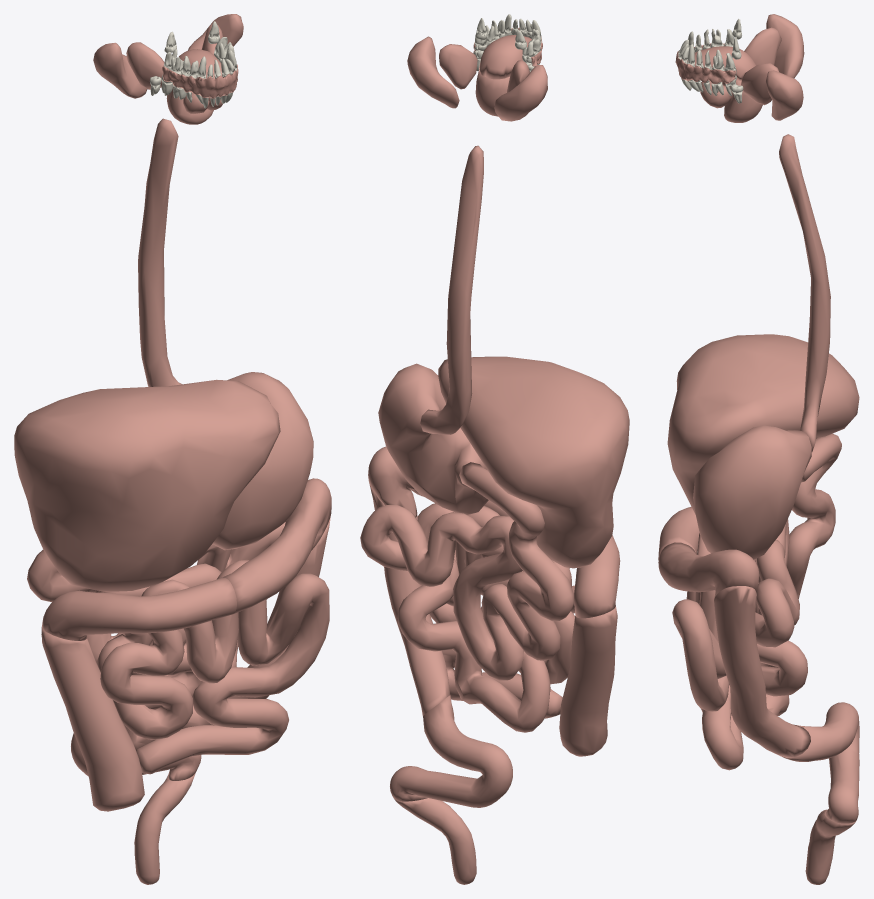
The model's file is pediatric_adolescent_female.digestive.LOD1.glb.
The picture shows the model from 3 angles, left to right: view 1: azimuth 30°, elevation 25°; view 2: azimuth 150°, elevation 25°; view 3: azimuth 270°, elevation 25°; orthographic projection. The views are drawn at different scales.
Visible parts, largest first — view 1: PEDIATRIC.ADOLESCENT.FEMALE.DIGESTIVE.LIVER, PEDIATRIC.ADOLESCENT.FEMALE.DIGESTIVE.SMALL_INTESTINE_WALL, PEDIATRIC.ADOLESCENT.FEMALE.DIGESTIVE.TRANSVERSE_COLON_WALL. (×2), PEDIATRIC.ADOLESCENT.FEMALE.DIGESTIVE.ASCENDING_COLON_WALL, PEDIATRIC.ADOLESCENT.FEMALE.DIGESTIVE.STOMACH_WALL, PEDIATRIC.ADOLESCENT.FEMALE.DIGESTIVE.OESOPHAGUS_WALL, PEDIATRIC.ADOLESCENT.FEMALE.DIGESTIVE.SALIVARY_GLANDS.R, PEDIATRIC.ADOLESCENT.FEMALE.DIGESTIVE.RECTUM_WALL, PEDIATRIC.ADOLESCENT.FEMALE.DIGESTIVE.PERMANENT_CEMENTUM, PEDIATRIC.ADOLESCENT.FEMALE.DIGESTIVE.ORAL_MUCOSA_LIP_AND_CH, PEDIATRIC.ADOLESCENT.FEMALE.DIGESTIVE.SALIVARY_GLANDS.L, PEDIATRIC.ADOLESCENT.FEMALE.DIGESTIVE.DESCENDING_COLON_WALL (+2 smaller); view 2: PEDIATRIC.ADOLESCENT.FEMALE.DIGESTIVE.SMALL_INTESTINE_WALL, PEDIATRIC.ADOLESCENT.FEMALE.DIGESTIVE.LIVER, PEDIATRIC.ADOLESCENT.FEMALE.DIGESTIVE.STOMACH_WALL, PEDIATRIC.ADOLESCENT.FEMALE.DIGESTIVE.OESOPHAGUS_WALL, PEDIATRIC.ADOLESCENT.FEMALE.DIGESTIVE.SIGMOID_COLON_WALL, PEDIATRIC.ADOLESCENT.FEMALE.DIGESTIVE.ASCENDING_COLON_WALL, PEDIATRIC.ADOLESCENT.FEMALE.DIGESTIVE.TRANSVERSE_COLON_WALL. (×2), PEDIATRIC.ADOLESCENT.FEMALE.DIGESTIVE.DESCENDING_COLON_WALL, PEDIATRIC.ADOLESCENT.FEMALE.DIGESTIVE.SALIVARY_GLANDS.L, PEDIATRIC.ADOLESCENT.FEMALE.DIGESTIVE.RECTUM_WALL, PEDIATRIC.ADOLESCENT.FEMALE.DIGESTIVE.SALIVARY_GLANDS.R, PEDIATRIC.ADOLESCENT.FEMALE.DIGESTIVE.ORAL_MUCOSA_MOUTH_FLOO (+2 smaller); view 3: PEDIATRIC.ADOLESCENT.FEMALE.DIGESTIVE.SMALL_INTESTINE_WALL, PEDIATRIC.ADOLESCENT.FEMALE.DIGESTIVE.LIVER, PEDIATRIC.ADOLESCENT.FEMALE.DIGESTIVE.STOMACH_WALL, PEDIATRIC.ADOLESCENT.FEMALE.DIGESTIVE.DESCENDING_COLON_WALL, PEDIATRIC.ADOLESCENT.FEMALE.DIGESTIVE.OESOPHAGUS_WALL, PEDIATRIC.ADOLESCENT.FEMALE.DIGESTIVE.TRANSVERSE_COLON_WALL. (×2), PEDIATRIC.ADOLESCENT.FEMALE.DIGESTIVE.SIGMOID_COLON_WALL, PEDIATRIC.ADOLESCENT.FEMALE.DIGESTIVE.SALIVARY_GLANDS.L, PEDIATRIC.ADOLESCENT.FEMALE.DIGESTIVE.SALIVARY_GLANDS.R, PEDIATRIC.ADOLESCENT.FEMALE.DIGESTIVE.PERMANENT_CEMENTUM, PEDIATRIC.ADOLESCENT.FEMALE.DIGESTIVE.RECTUM_WALL, PEDIATRIC.ADOLESCENT.FEMALE.DIGESTIVE.ORAL_MUCOSA_LIP_AND_CH (+2 smaller).
Boxes of the visible parts, <box> form: PEDIATRIC.ADOLESCENT.FEMALE.DIGESTIVE.LIVER: <box>14,379,280,591</box>; PEDIATRIC.ADOLESCENT.FEMALE.DIGESTIVE.SMALL_INTESTINE_WALL: <box>27,522,329,774</box>; PEDIATRIC.ADOLESCENT.FEMALE.DIGESTIVE.TRANSVERSE_COLON_WALL. (×2): <box>42,478,331,640</box>; PEDIATRIC.ADOLESCENT.FEMALE.DIGESTIVE.ASCENDING_COLON_WALL: <box>41,627,144,811</box>; PEDIATRIC.ADOLESCENT.FEMALE.DIGESTIVE.STOMACH_WALL: <box>212,372,313,550</box>; PEDIATRIC.ADOLESCENT.FEMALE.DIGESTIVE.OESOPHAGUS_WALL: <box>138,118,181,386</box>; PEDIATRIC.ADOLESCENT.FEMALE.DIGESTIVE.SALIVARY_GLANDS.R: <box>93,42,209,113</box>; PEDIATRIC.ADOLESCENT.FEMALE.DIGESTIVE.RECTUM_WALL: <box>134,773,195,884</box>; PEDIATRIC.ADOLESCENT.FEMALE.DIGESTIVE.PERMANENT_CEMENTUM: <box>150,21,237,108</box>; PEDIATRIC.ADOLESCENT.FEMALE.DIGESTIVE.ORAL_MUCOSA_LIP_AND_CH: <box>162,64,238,98</box>; PEDIATRIC.ADOLESCENT.FEMALE.DIGESTIVE.SALIVARY_GLANDS.L: <box>188,14,243,110</box>; PEDIATRIC.ADOLESCENT.FEMALE.DIGESTIVE.DESCENDING_COLON_WALL: <box>227,515,330,698</box>; PEDIATRIC.ADOLESCENT.FEMALE.DIGESTIVE.SMALL_INTESTINE_WALL: <box>360,462,574,732</box>; PEDIATRIC.ADOLESCENT.FEMALE.DIGESTIVE.LIVER: <box>438,356,629,568</box>; PEDIATRIC.ADOLESCENT.FEMALE.DIGESTIVE.STOMACH_WALL: <box>378,363,488,514</box>; PEDIATRIC.ADOLESCENT.FEMALE.DIGESTIVE.OESOPHAGUS_WALL: <box>420,145,483,434</box>; PEDIATRIC.ADOLESCENT.FEMALE.DIGESTIVE.SIGMOID_COLON_WALL: <box>390,695,512,807</box>; PEDIATRIC.ADOLESCENT.FEMALE.DIGESTIVE.ASCENDING_COLON_WALL: <box>559,606,617,756</box>; PEDIATRIC.ADOLESCENT.FEMALE.DIGESTIVE.TRANSVERSE_COLON_WALL. (×2): <box>368,446,620,618</box>; PEDIATRIC.ADOLESCENT.FEMALE.DIGESTIVE.DESCENDING_COLON_WALL: <box>369,482,450,715</box>; PEDIATRIC.ADOLESCENT.FEMALE.DIGESTIVE.SALIVARY_GLANDS.L: <box>407,36,477,108</box>; PEDIATRIC.ADOLESCENT.FEMALE.DIGESTIVE.RECTUM_WALL: <box>394,798,476,884</box>; PEDIATRIC.ADOLESCENT.FEMALE.DIGESTIVE.SALIVARY_GLANDS.R: <box>494,60,547,121</box>; PEDIATRIC.ADOLESCENT.FEMALE.DIGESTIVE.ORAL_MUCOSA_MOUTH_FLOO: <box>479,35,531,79</box>; PEDIATRIC.ADOLESCENT.FEMALE.DIGESTIVE.SMALL_INTESTINE_WALL: <box>672,433,841,770</box>; PEDIATRIC.ADOLESCENT.FEMALE.DIGESTIVE.LIVER: <box>667,334,859,514</box>; PEDIATRIC.ADOLESCENT.FEMALE.DIGESTIVE.STOMACH_WALL: <box>693,425,811,559</box>; PEDIATRIC.ADOLESCENT.FEMALE.DIGESTIVE.DESCENDING_COLON_WALL: <box>714,586,810,758</box>; PEDIATRIC.ADOLESCENT.FEMALE.DIGESTIVE.OESOPHAGUS_WALL: <box>779,134,830,451</box>; PEDIATRIC.ADOLESCENT.FEMALE.DIGESTIVE.TRANSVERSE_COLON_WALL. (×2): <box>658,506,759,598</box>; PEDIATRIC.ADOLESCENT.FEMALE.DIGESTIVE.SIGMOID_COLON_WALL: <box>782,702,859,823</box>; PEDIATRIC.ADOLESCENT.FEMALE.DIGESTIVE.SALIVARY_GLANDS.L: <box>700,63,803,120</box>; PEDIATRIC.ADOLESCENT.FEMALE.DIGESTIVE.SALIVARY_GLANDS.R: <box>701,14,804,86</box>; PEDIATRIC.ADOLESCENT.FEMALE.DIGESTIVE.PERMANENT_CEMENTUM: <box>678,19,742,103</box>; PEDIATRIC.ADOLESCENT.FEMALE.DIGESTIVE.RECTUM_WALL: <box>805,809,855,884</box>; PEDIATRIC.ADOLESCENT.FEMALE.DIGESTIVE.ORAL_MUCOSA_LIP_AND_CH: <box>675,43,736,83</box>.
Size of the model in its own units: 0.2439 by 0.7343 by 0.1561.
